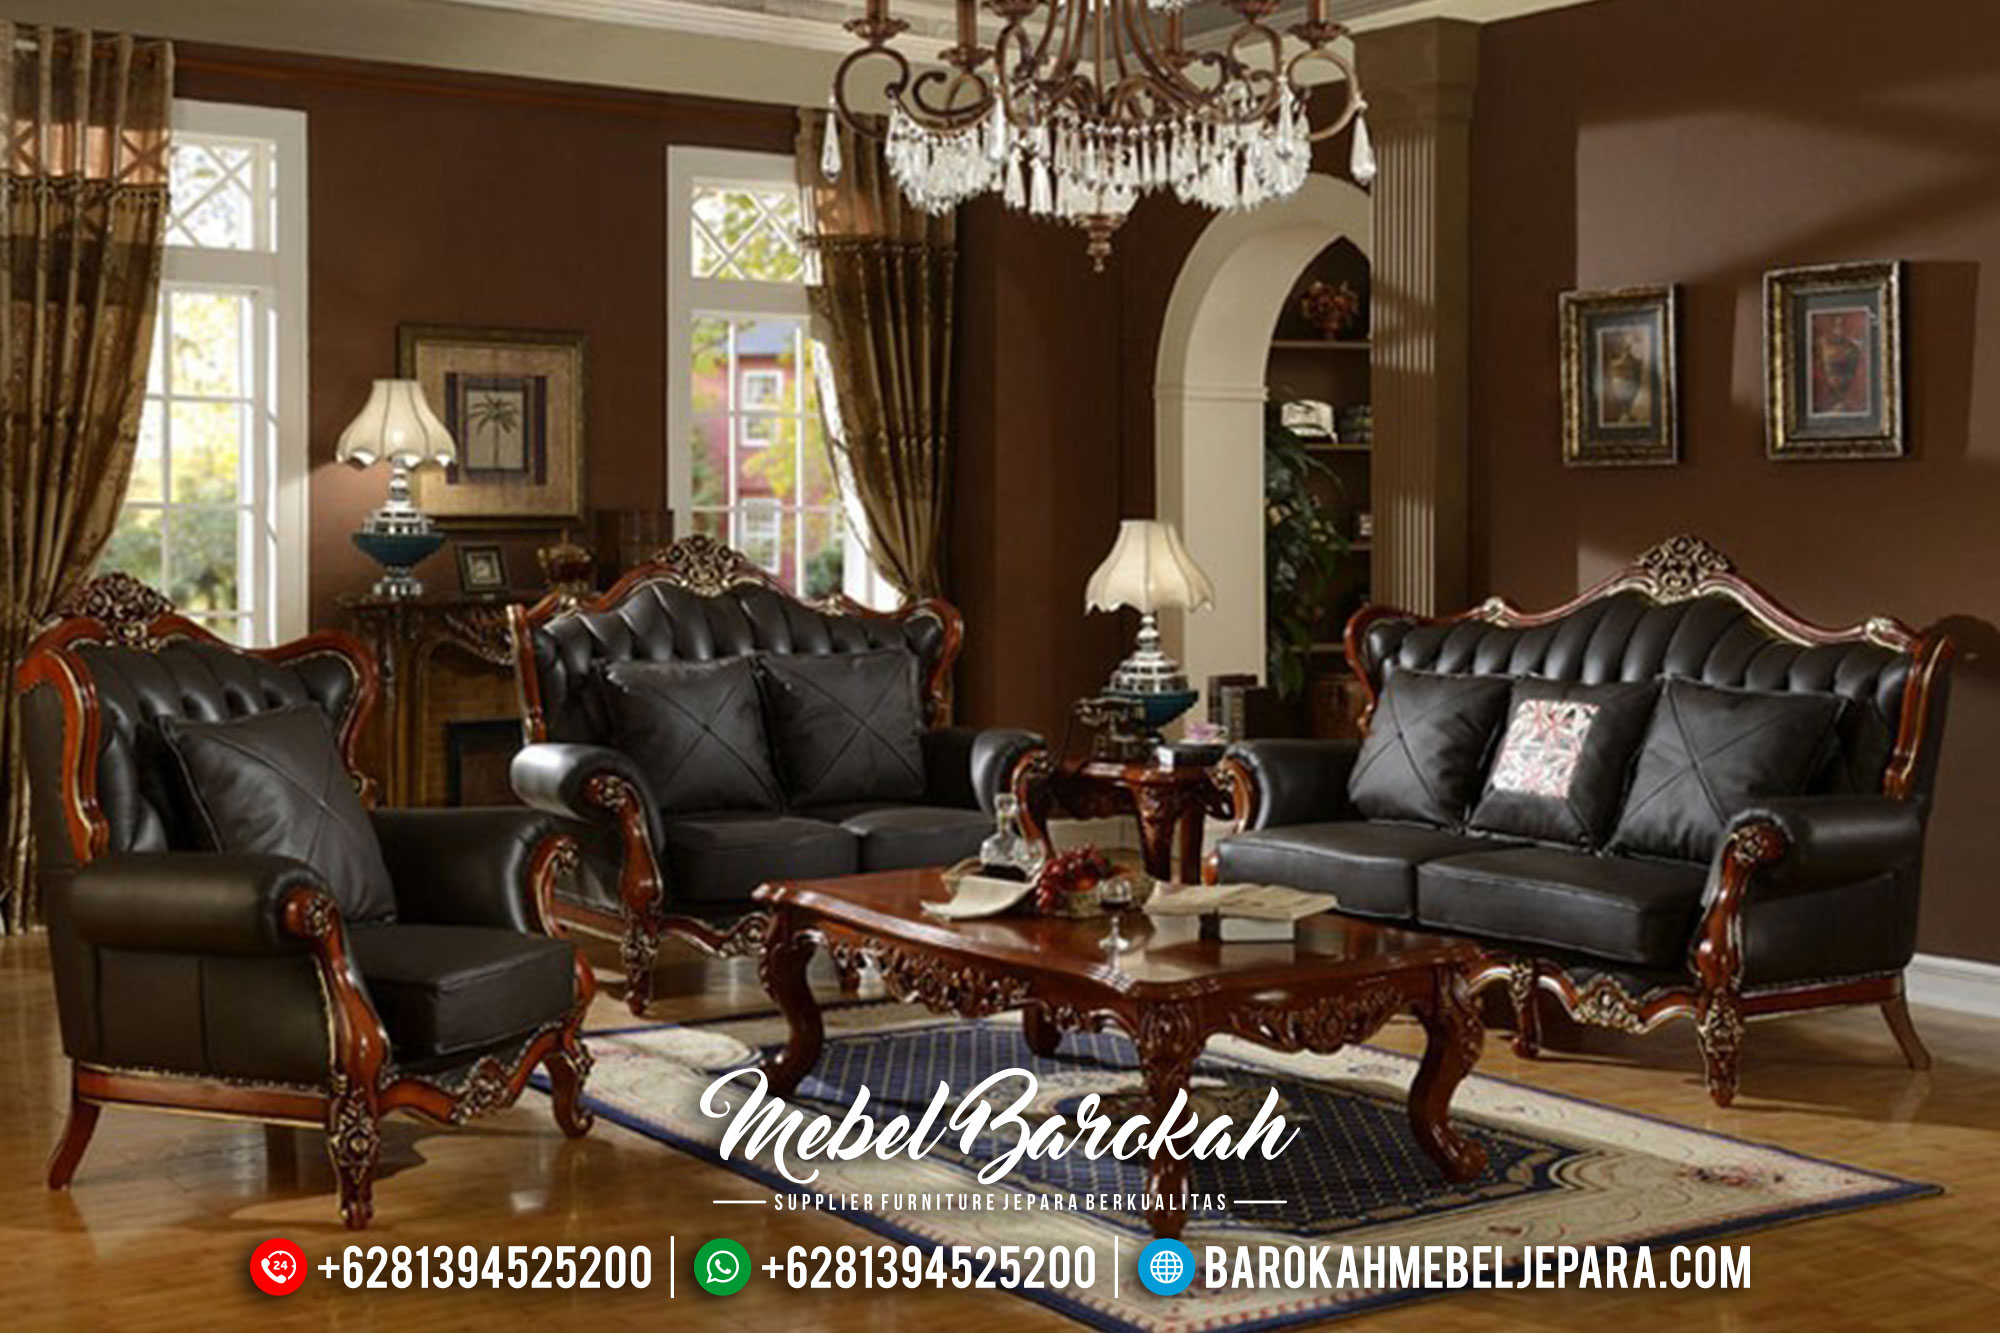Carving Chair: (1274, 571, 1967, 1083), (22, 586, 562, 1171), (492, 552, 987, 960)
Carving Table: (767, 858, 1471, 1160)
